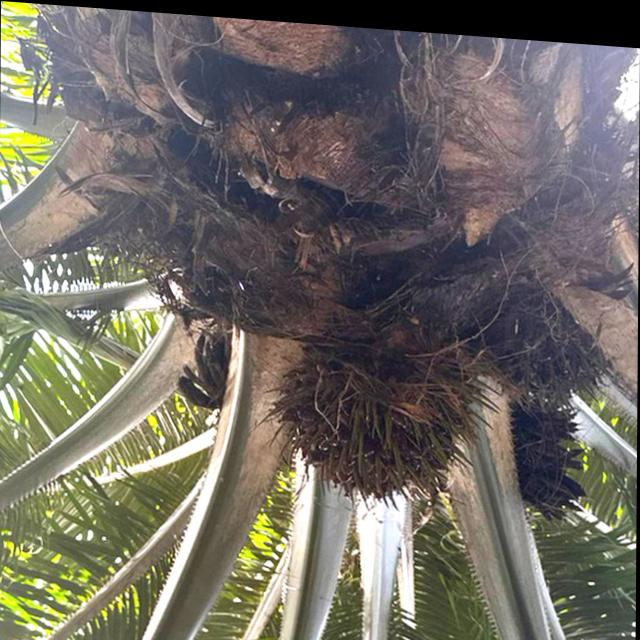ripe: (270, 327, 463, 510)
